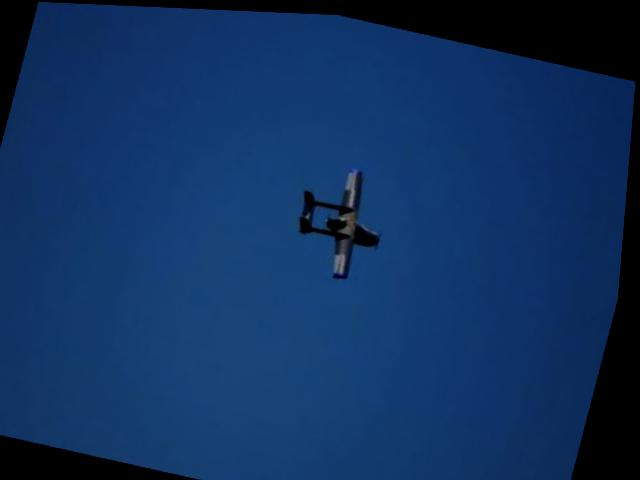uav: (285, 152, 402, 282)
